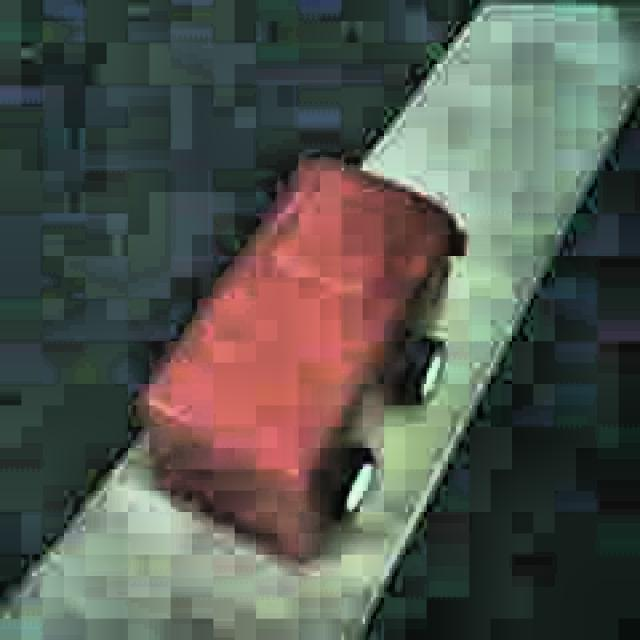bus: (147, 159, 466, 562)
